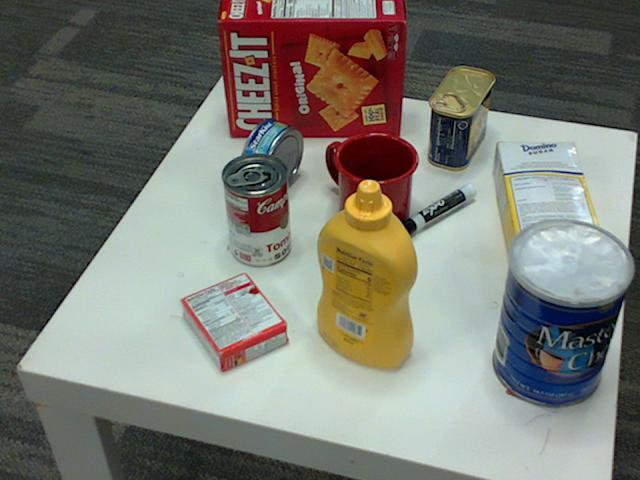cracker_box: (220, 0, 406, 135)
gelatin_box: (176, 271, 284, 372)
large_marker: (392, 187, 477, 240)
master_chef_can: (494, 220, 635, 408)
mug: (325, 130, 418, 234)
mustard_bottle: (316, 181, 417, 369)
potted_meat_can: (427, 67, 493, 170)
sugar_box: (493, 141, 604, 270)
tomato_soup_can: (221, 153, 290, 267)
tuna_fish_can: (238, 118, 302, 196)
